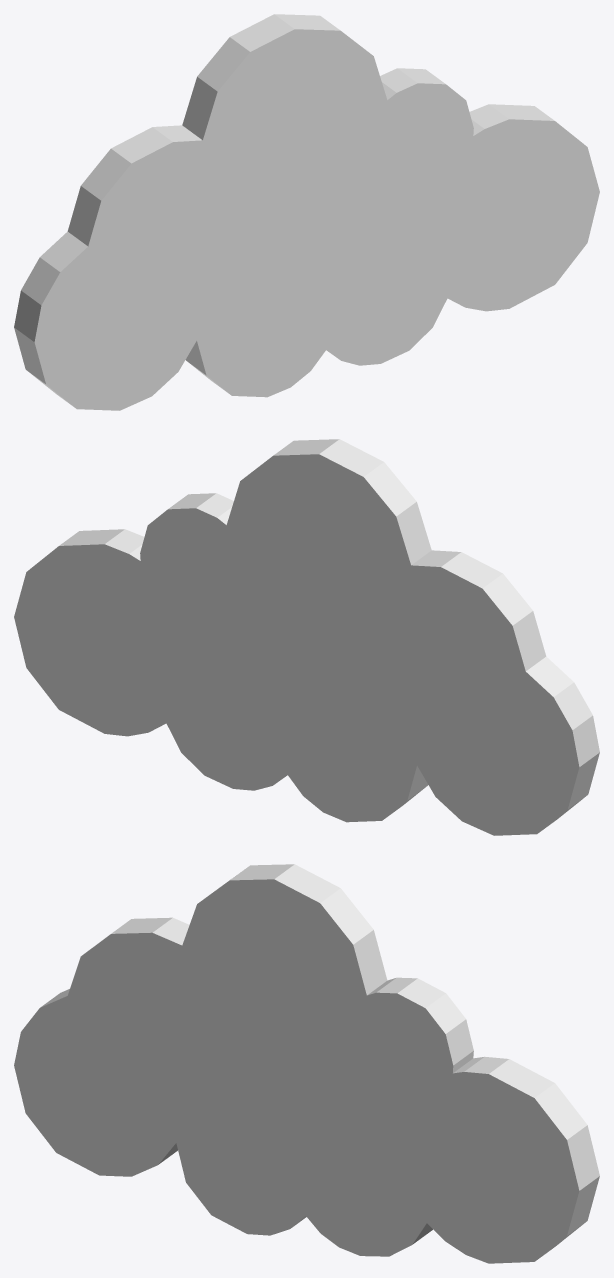
Rendered from cartoon_cloud_2.fbx.
The picture shows the model from 3 angles, top to bottom: view 1: azimuth 30°, elevation 25°; view 2: azimuth 150°, elevation 25°; view 3: azimuth 330°, elevation 25°; orthographic projection.
Parts seen in each view (by area): view 1: cloud_72; view 2: cloud_72; view 3: cloud_72.
Part boxes in pixels (x1,y1,x2,y2): cloud_72: (14, 14, 599, 410); cloud_72: (14, 439, 599, 835); cloud_72: (14, 864, 599, 1263).
Size of the model in its own units: 317 by 194 by 20.
